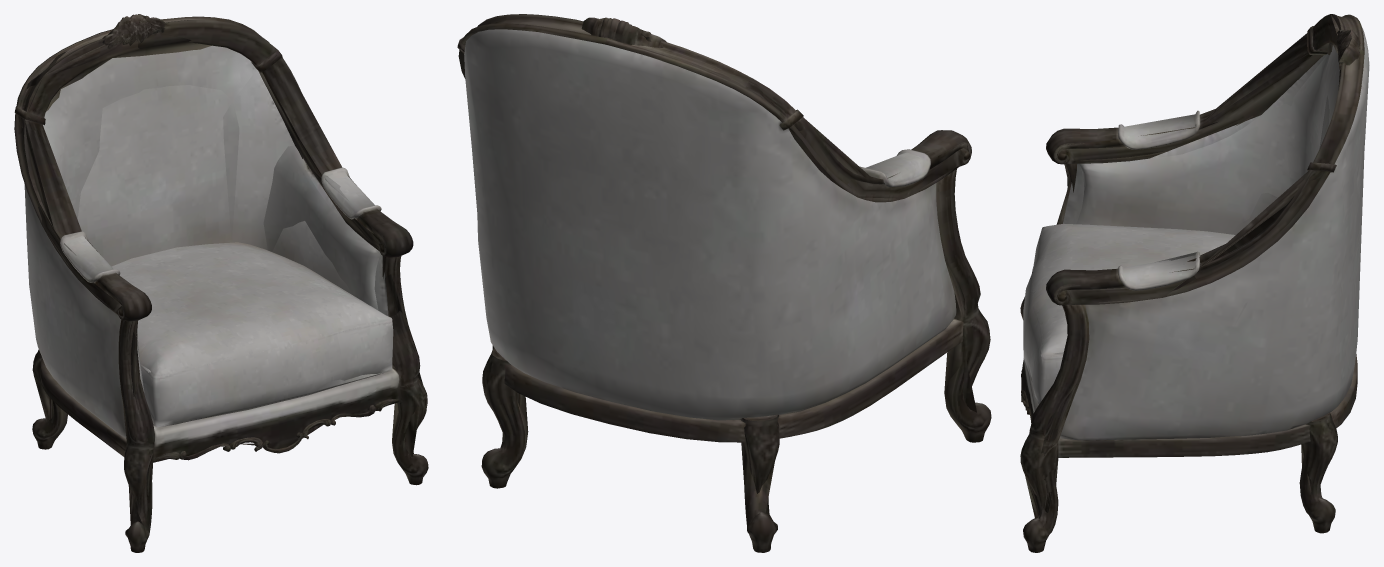
File: ArmChair_01.glb
3 views of the same model, side by side, from view 1: azimuth 30°, elevation 25°; view 2: azimuth 150°, elevation 25°; view 3: azimuth 270°, elevation 25° (orthographic). The views are drawn at different scales.
Parts seen in each view (by area): view 1: ArmChair_01, ArmChair_01_lo; view 2: ArmChair_01, ArmChair_01_lo; view 3: ArmChair_01, ArmChair_01_lo.
Boxes of the visible parts, <box> form: ArmChair_01: <box>14,14,428,552</box>; ArmChair_01_lo: <box>17,14,422,525</box>; ArmChair_01: <box>457,14,991,552</box>; ArmChair_01_lo: <box>462,17,976,527</box>; ArmChair_01: <box>1020,14,1369,552</box>; ArmChair_01_lo: <box>1024,14,1360,518</box>.
Size of the model in its own units: 0.8485 by 1.07 by 0.7658.
Materials: 1 (1 with a texture image).
